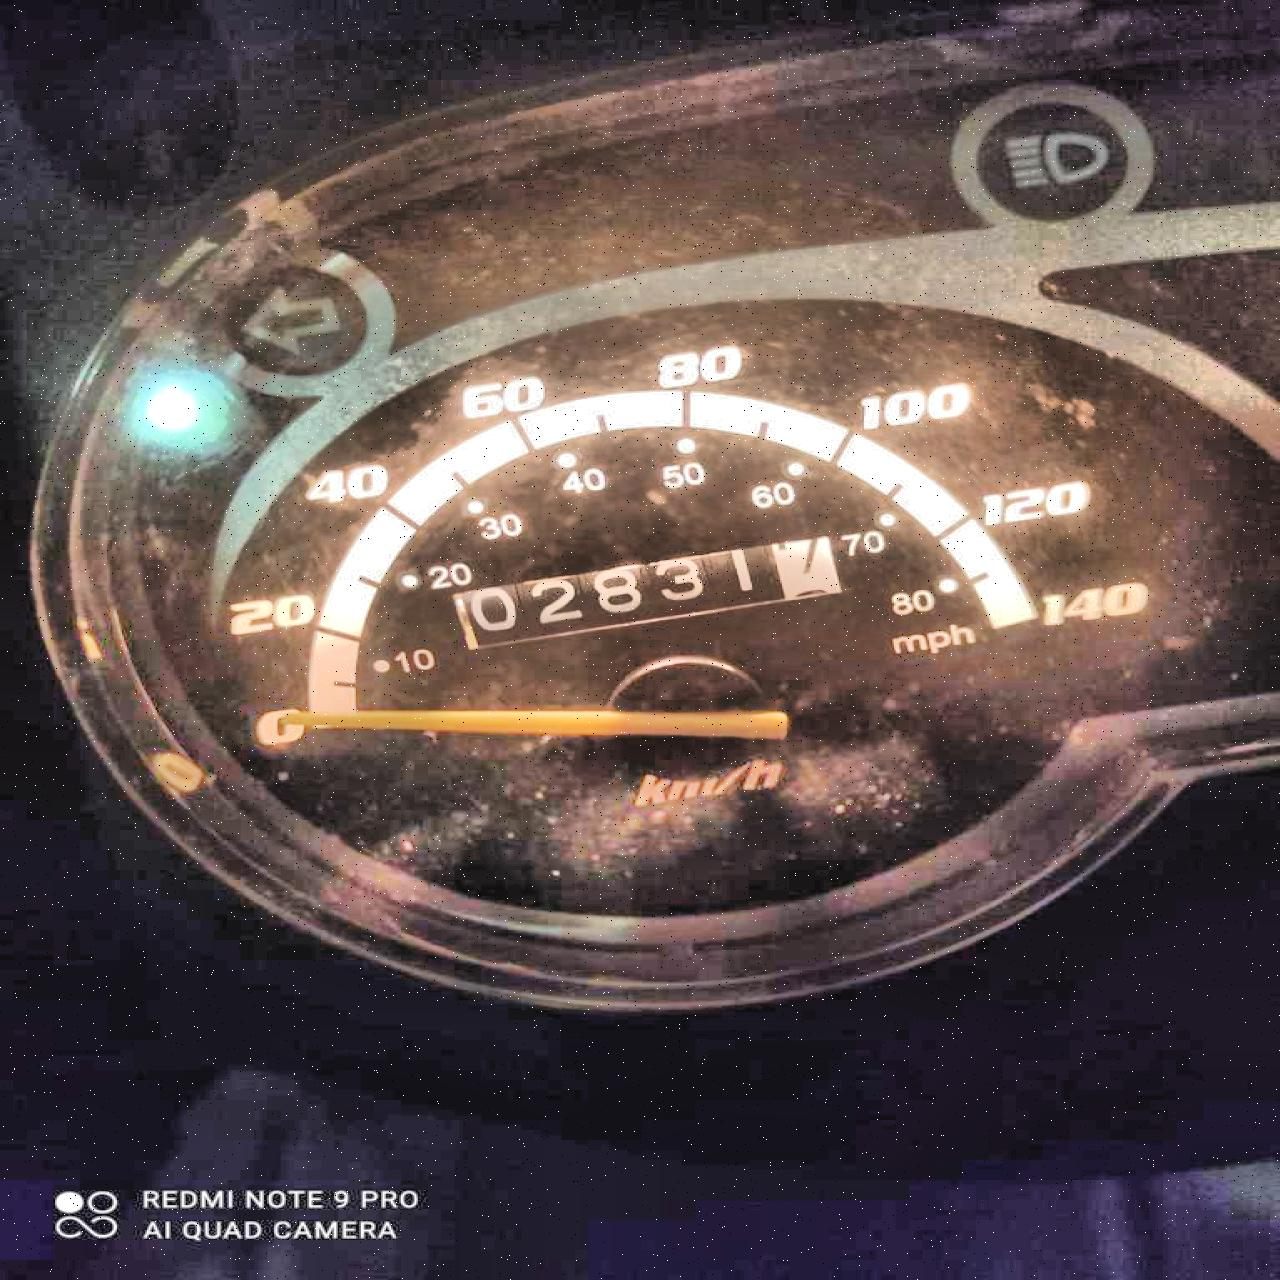0: (467, 585, 518, 633), (447, 560, 472, 585)
1: (723, 545, 758, 594)
2: (526, 576, 584, 625), (440, 564, 451, 588)
3: (652, 557, 706, 601)
7: (774, 535, 817, 576)
8: (588, 567, 644, 613)
odometer: (440, 531, 845, 656)
